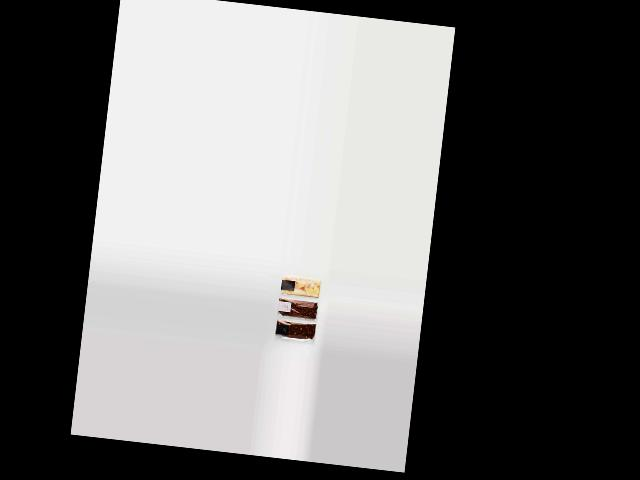chocolate: (275, 318, 320, 347)
